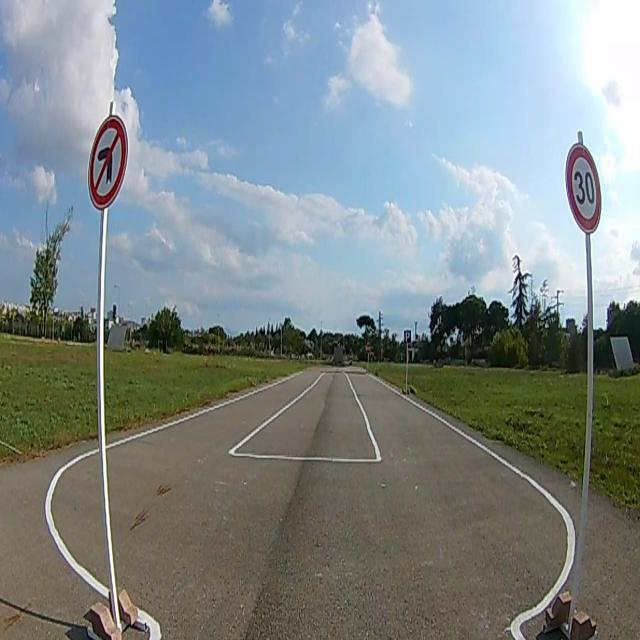30: (566, 146, 602, 232)
soladonulmez: (88, 116, 126, 210)
